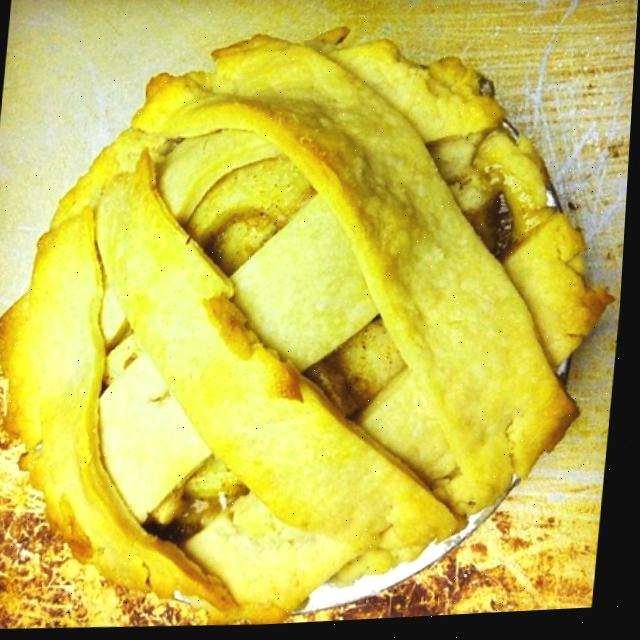炸货点心: (0, 0, 615, 640)
蛋糕甜品: (0, 0, 615, 640)
